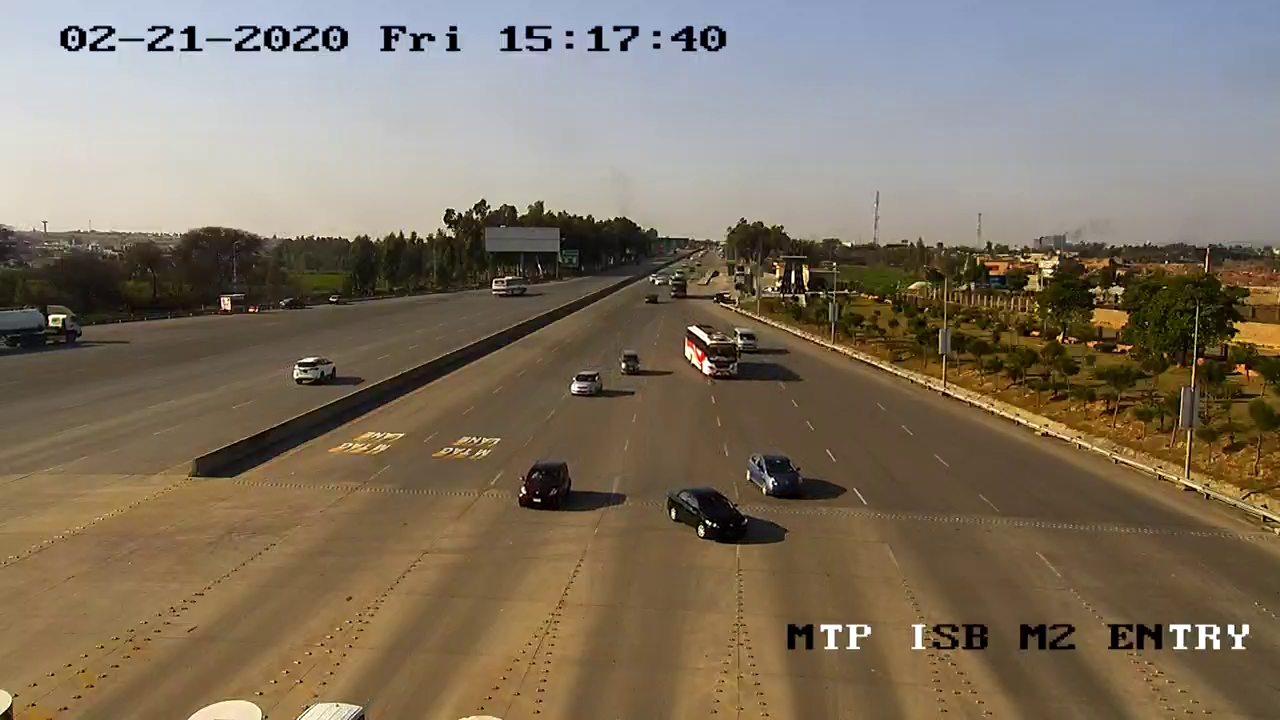f1: (666, 481, 755, 555), (745, 448, 817, 504), (512, 455, 575, 518)
f4: (678, 317, 741, 386)
